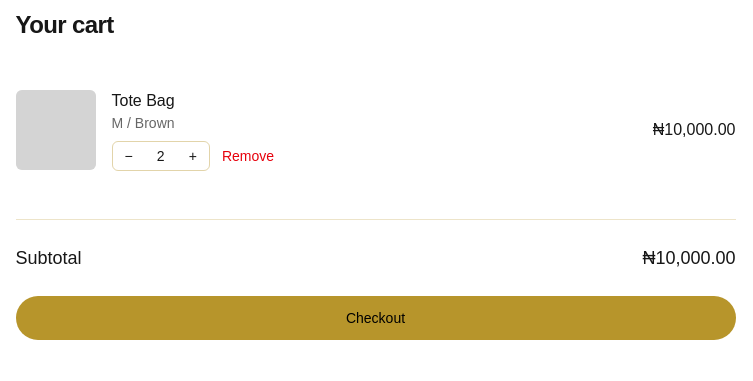
Test: CartPage › shows an error message when updating quantity fails
Click the button named "Increase quantity": (193, 156) [177,142,209,170]
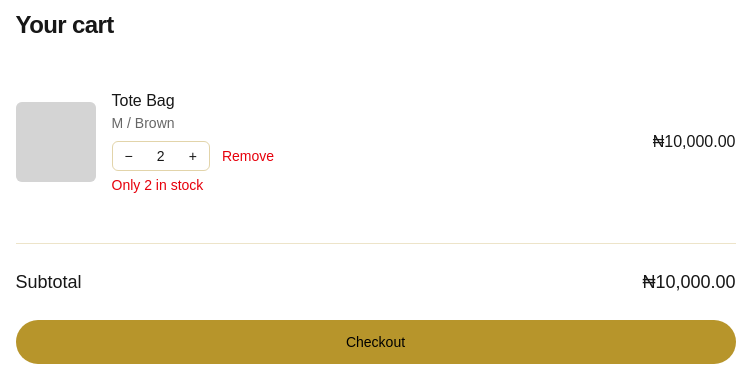
expect the text "Only 2 in stock" is shown: met, box [112,177,203,193]
